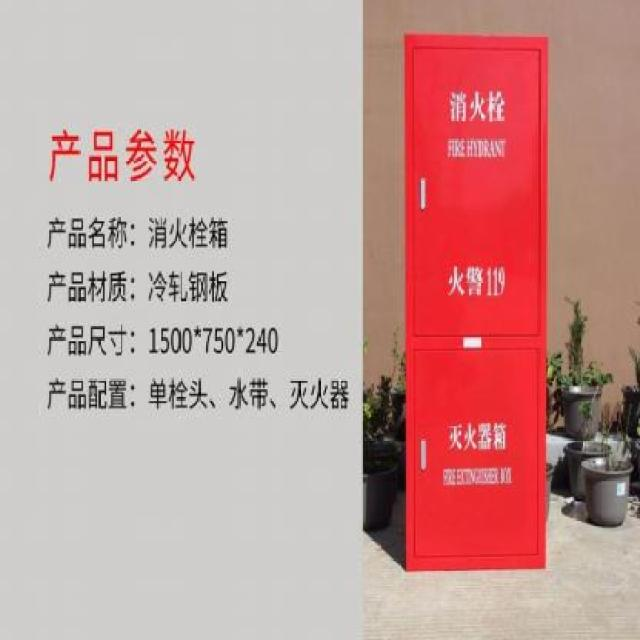firehydrant: (402, 26, 549, 578)
